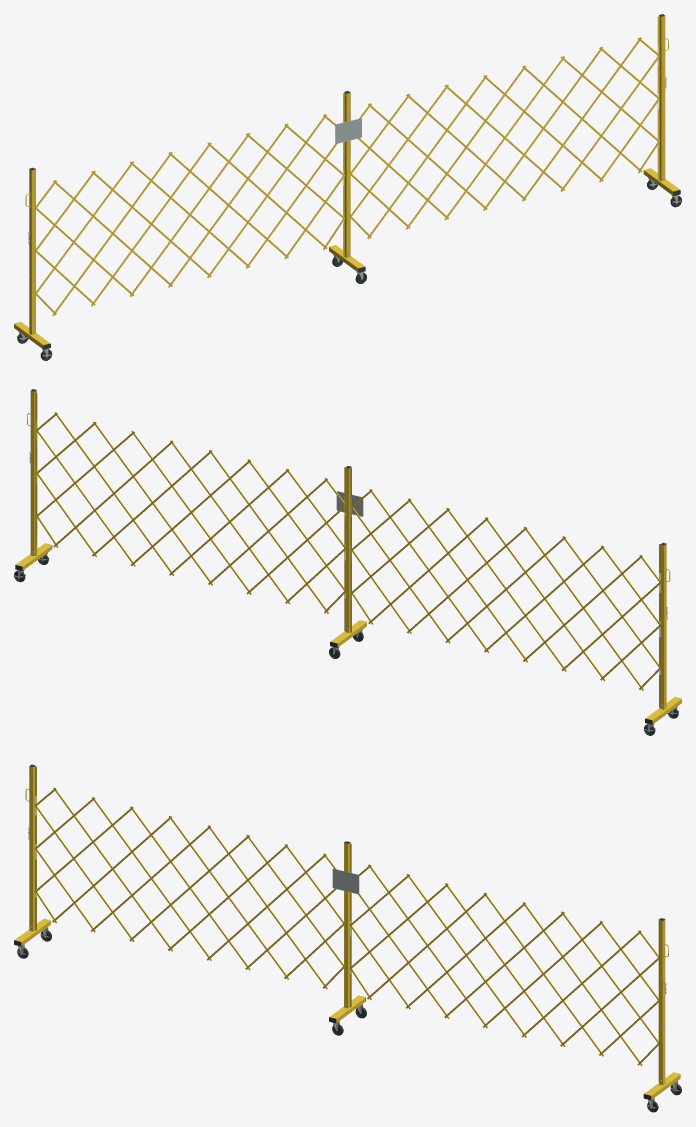
File: barrier_gate_safety_a02.glb
3 views of the same model, one above another, from view 1: azimuth 30°, elevation 25°; view 2: azimuth 150°, elevation 25°; view 3: azimuth 330°, elevation 25° (orthographic).
Size of the model in its own units: 6.11 by 1.66 by 0.4865.
